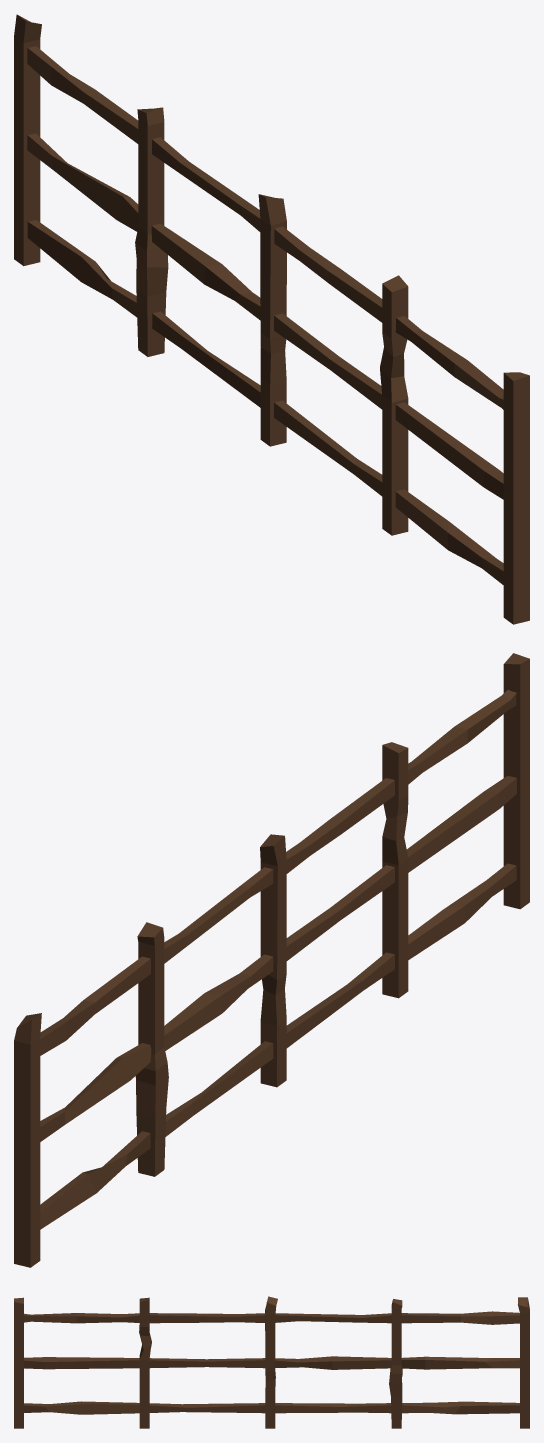
Rendered from Fance.fbx.
3 renders of one model, top to bottom at view 1: azimuth 30°, elevation 25°; view 2: azimuth 150°, elevation 25°; view 3: azimuth 270°, elevation 25°, orthographic. The views are drawn at different scales.
Parts seen in each view (by area): view 1: Cube.010; view 2: Cube.010; view 3: Cube.010.
Boxes of the visible parts, x1=… form: Cube.010: x1=14, y1=14, x2=529, y2=624; Cube.010: x1=14, y1=653, x2=529, y2=1267; Cube.010: x1=14, y1=1296, x2=529, y2=1428.
Bounding box in the file's own units: 132 × 1432 × 5198.
